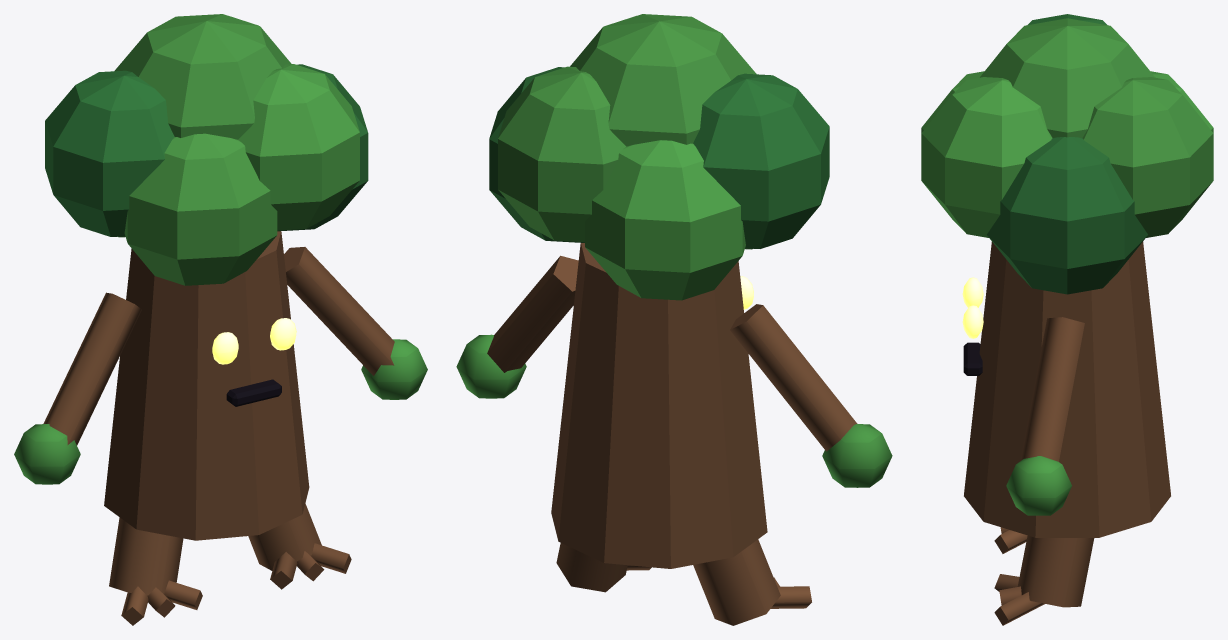
File: monster_treant.glb
The picture shows the model from 3 angles, left to right: view 1: azimuth 30°, elevation 25°; view 2: azimuth 150°, elevation 25°; view 3: azimuth 270°, elevation 25°; orthographic projection. The views are drawn at different scales.
Visible parts, largest first — view 1: body_t0_palette, arml_t0_palette, armr_t0_palette, legl_t0_palette, legr_t0_palette, body_t0_glow_gold; view 2: body_t0_palette, arml_t0_palette, armr_t0_palette, legl_t0_palette, legr_t0_palette; view 3: body_t0_palette, armr_t0_palette, legr_t0_palette, body_t0_glow_gold, legl_t0_palette.
Part boxes in pixels (bbox=[...]): body_t0_palette: bbox=[45, 14, 368, 540]; arml_t0_palette: bbox=[14, 292, 141, 484]; armr_t0_palette: bbox=[284, 247, 427, 399]; legl_t0_palette: bbox=[109, 517, 202, 625]; legr_t0_palette: bbox=[248, 503, 351, 589]; body_t0_glow_gold: bbox=[212, 318, 296, 364]; body_t0_palette: bbox=[489, 14, 829, 568]; arml_t0_palette: bbox=[730, 304, 892, 487]; armr_t0_palette: bbox=[456, 255, 578, 398]; legl_t0_palette: bbox=[693, 539, 811, 625]; legr_t0_palette: bbox=[556, 543, 651, 592]; body_t0_palette: bbox=[921, 14, 1213, 537]; armr_t0_palette: bbox=[1006, 317, 1084, 515]; legr_t0_palette: bbox=[994, 535, 1094, 625]; body_t0_glow_gold: bbox=[962, 277, 983, 338]; legl_t0_palette: bbox=[994, 527, 1027, 553].
Size of the model in its own units: 0.4806 by 0.6419 by 0.3098.
